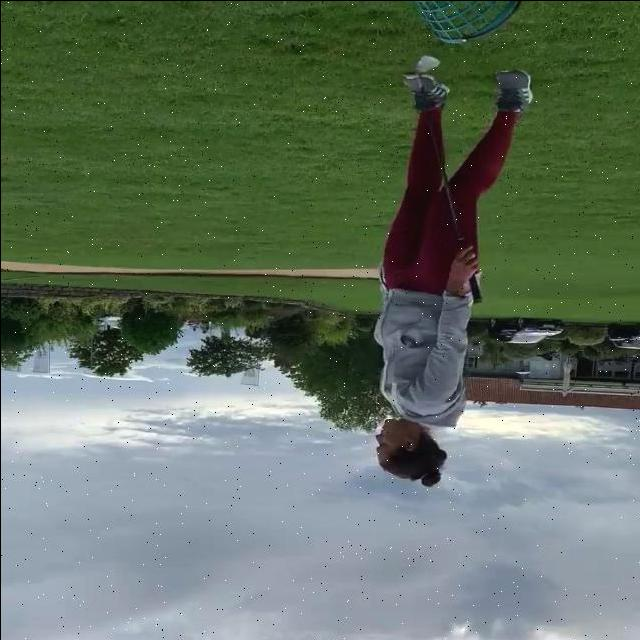ClubHandle: (414, 54, 482, 302)
ClubHead: (415, 54, 440, 73)
